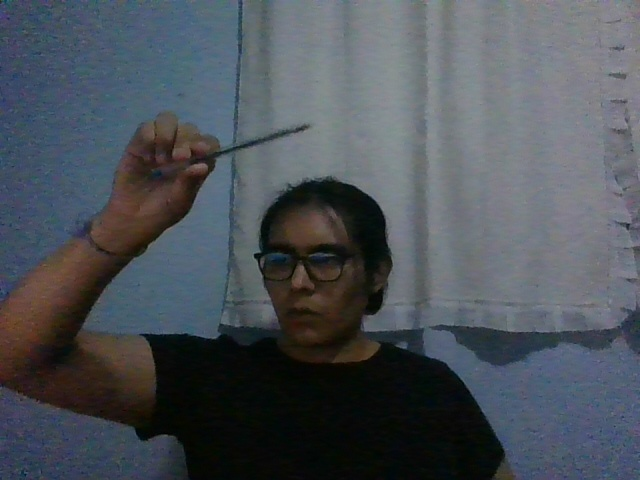pluma: (149, 123, 311, 179)
